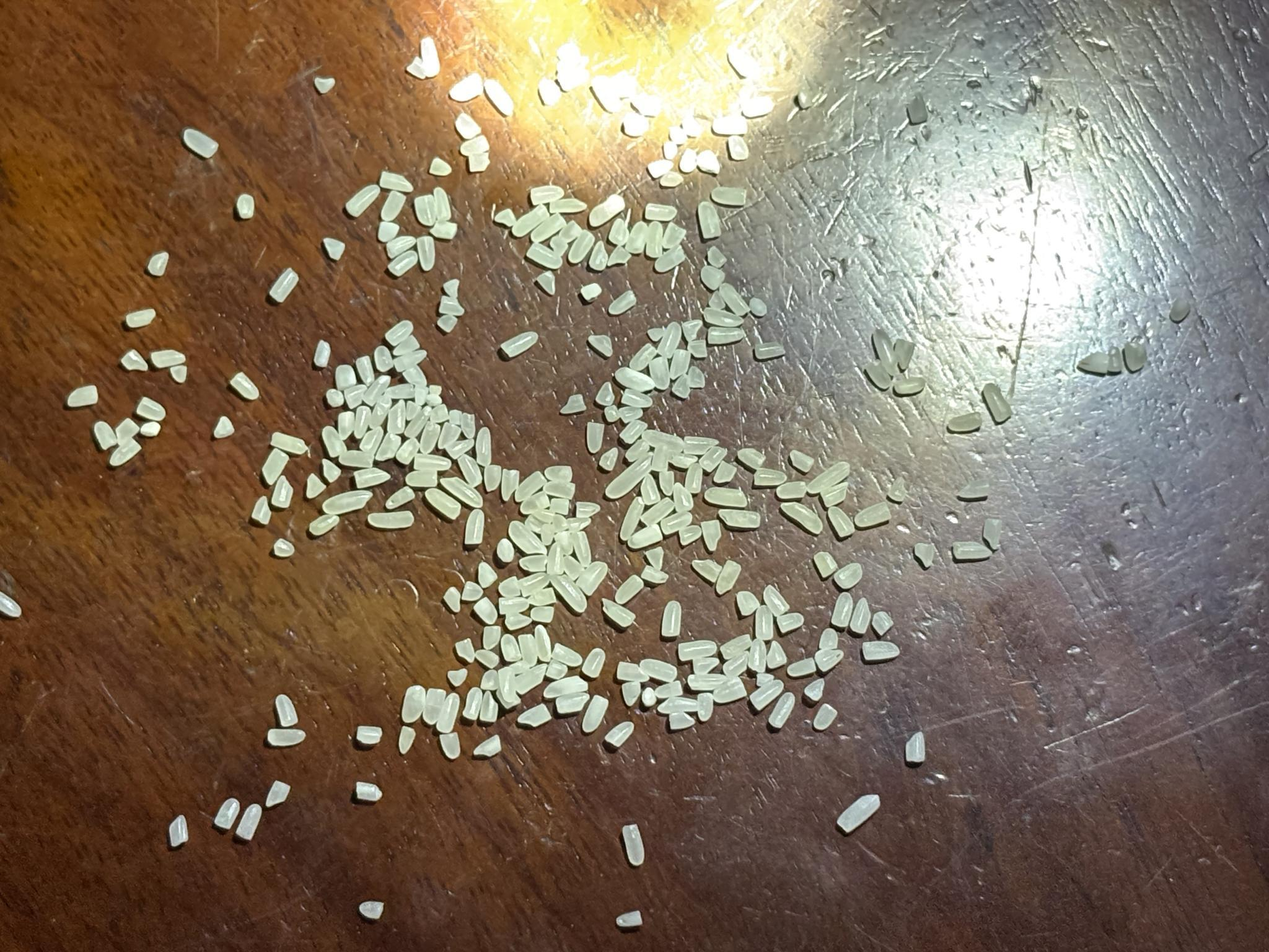Rice-th-y-nh: (605, 457, 653, 501), (553, 40, 588, 94), (837, 794, 881, 833), (867, 328, 901, 377), (587, 190, 626, 232), (549, 573, 588, 614), (589, 72, 626, 115), (506, 519, 548, 556), (510, 202, 551, 239), (980, 382, 1016, 424), (780, 501, 824, 535), (440, 475, 484, 509), (806, 461, 850, 495), (726, 44, 762, 81), (483, 77, 515, 117), (694, 200, 726, 240), (322, 489, 371, 515), (345, 183, 381, 218), (424, 487, 462, 520), (530, 212, 567, 245), (618, 496, 645, 541), (704, 484, 748, 511), (416, 36, 444, 78), (655, 320, 685, 359), (705, 322, 745, 351), (718, 282, 750, 318), (614, 366, 655, 394), (640, 219, 668, 260), (182, 128, 219, 159), (657, 600, 687, 638), (470, 426, 497, 468), (513, 470, 547, 503), (640, 496, 675, 528), (712, 110, 748, 141), (261, 448, 290, 486), (542, 675, 586, 700), (548, 192, 587, 220), (496, 668, 522, 710), (449, 72, 484, 103), (711, 181, 747, 211), (718, 506, 761, 531), (623, 219, 652, 256), (525, 243, 563, 271), (514, 663, 548, 694), (601, 597, 635, 628), (567, 229, 596, 265), (582, 695, 609, 733), (501, 332, 539, 359), (436, 693, 461, 734), (749, 680, 784, 709), (639, 657, 678, 683), (714, 559, 742, 595), (646, 355, 674, 391), (855, 500, 891, 528), (641, 427, 683, 451), (412, 235, 439, 272), (654, 244, 686, 275), (570, 530, 596, 568), (411, 193, 440, 227), (644, 198, 678, 227), (702, 306, 743, 330), (268, 267, 296, 302), (677, 638, 716, 663), (622, 824, 645, 866), (613, 574, 644, 605), (367, 510, 415, 530), (768, 693, 795, 728), (628, 523, 663, 550), (667, 346, 694, 381), (582, 562, 609, 597), (237, 804, 263, 840), (531, 624, 555, 663), (362, 374, 391, 406), (270, 431, 307, 456), (421, 688, 446, 725), (320, 425, 348, 458), (456, 453, 483, 487), (740, 93, 775, 119), (378, 170, 414, 195), (515, 632, 540, 668), (621, 109, 651, 139), (628, 342, 657, 373), (828, 505, 856, 537), (380, 190, 407, 223), (698, 518, 724, 552), (582, 420, 608, 454), (392, 348, 427, 373), (230, 372, 260, 401), (698, 445, 728, 474), (698, 262, 727, 292), (404, 408, 432, 439), (109, 439, 141, 466), (497, 469, 523, 502), (337, 447, 374, 470), (543, 478, 577, 503), (744, 639, 769, 673), (864, 360, 893, 389), (368, 395, 392, 430), (374, 432, 402, 462), (430, 186, 454, 221), (387, 399, 411, 434), (687, 672, 727, 693), (661, 220, 688, 251), (637, 474, 663, 506), (519, 490, 551, 516), (387, 251, 419, 277), (980, 517, 1006, 549), (849, 598, 872, 634), (947, 411, 983, 434), (763, 584, 788, 617), (542, 542, 566, 576), (608, 289, 637, 317), (454, 112, 482, 141), (213, 798, 239, 829), (350, 405, 373, 440), (586, 240, 611, 272), (551, 643, 583, 668), (660, 695, 700, 715), (353, 469, 391, 490), (660, 512, 693, 536), (615, 661, 649, 684), (418, 421, 441, 455), (395, 436, 421, 466), (537, 77, 563, 107), (834, 563, 864, 589), (682, 432, 719, 453), (691, 558, 722, 583), (555, 693, 590, 715), (831, 592, 853, 627), (720, 634, 752, 658), (385, 234, 417, 258), (334, 409, 357, 442), (723, 651, 750, 679), (619, 419, 648, 445), (725, 133, 751, 162), (604, 721, 634, 746), (606, 217, 631, 247), (384, 319, 414, 344), (517, 703, 551, 725), (384, 485, 415, 509), (581, 647, 605, 678), (480, 462, 504, 493), (459, 133, 490, 157), (754, 339, 785, 363), (953, 542, 992, 561), (275, 695, 298, 727), (332, 363, 358, 391), (620, 389, 653, 411), (736, 447, 766, 471), (753, 468, 787, 489), (713, 682, 747, 703), (892, 376, 926, 397), (354, 355, 377, 386), (518, 552, 549, 575), (520, 575, 551, 598), (862, 640, 899, 659), (265, 780, 291, 807), (606, 243, 633, 269), (696, 148, 723, 174), (473, 597, 498, 625), (437, 422, 462, 450), (586, 333, 614, 358), (813, 551, 838, 579), (429, 218, 458, 242), (499, 633, 522, 663), (648, 443, 671, 473), (67, 385, 98, 407), (402, 365, 429, 390), (813, 703, 838, 730), (359, 426, 384, 453), (822, 484, 849, 509), (647, 155, 674, 180), (308, 514, 340, 535), (405, 469, 437, 490), (445, 437, 474, 460), (137, 397, 166, 420), (268, 728, 305, 746), (686, 464, 707, 495), (384, 381, 415, 402), (561, 555, 586, 581), (735, 590, 760, 616), (466, 150, 492, 175), (115, 418, 140, 444), (680, 316, 704, 343), (680, 112, 704, 139), (670, 373, 693, 401), (498, 595, 530, 615), (775, 480, 807, 500), (473, 734, 502, 756), (150, 350, 185, 368), (544, 463, 574, 484), (695, 692, 716, 722), (789, 449, 815, 473), (559, 219, 583, 245), (914, 542, 938, 568), (393, 334, 420, 357), (476, 561, 499, 588), (372, 345, 395, 372), (817, 650, 844, 673), (529, 603, 556, 626), (560, 393, 587, 416), (594, 381, 617, 408), (168, 816, 188, 847), (672, 482, 694, 510), (0, 590, 22, 618), (94, 421, 116, 449), (439, 732, 461, 760), (529, 586, 558, 607), (554, 528, 575, 557), (463, 687, 482, 719), (625, 438, 650, 462), (713, 461, 738, 485), (376, 220, 401, 244), (643, 546, 667, 571), (597, 446, 620, 472), (678, 147, 700, 174), (766, 641, 788, 668), (536, 270, 558, 297), (776, 612, 804, 633), (787, 657, 816, 677), (1105, 346, 1125, 375), (323, 236, 346, 261), (871, 611, 894, 636), (548, 233, 571, 258), (305, 473, 327, 499), (657, 469, 678, 496), (442, 586, 463, 613), (574, 499, 601, 520), (655, 680, 683, 700), (355, 782, 383, 802), (641, 565, 669, 585), (125, 309, 156, 327), (705, 246, 729, 269), (685, 365, 707, 390), (454, 638, 476, 663), (495, 538, 517, 563), (621, 680, 642, 706), (481, 624, 502, 650), (617, 405, 643, 426), (121, 351, 148, 371), (478, 692, 496, 722), (276, 479, 294, 509), (504, 612, 532, 631), (692, 656, 720, 675), (313, 340, 332, 368), (686, 337, 709, 360), (429, 402, 451, 426), (345, 386, 367, 410), (270, 476, 287, 507), (475, 648, 500, 669), (321, 458, 342, 483), (439, 297, 465, 317), (458, 412, 478, 438), (213, 416, 235, 439), (461, 580, 484, 602), (545, 659, 568, 681), (580, 280, 603, 302), (398, 726, 416, 754), (494, 207, 518, 228), (567, 515, 592, 535), (669, 711, 695, 730), (659, 170, 685, 189), (517, 571, 546, 588), (761, 605, 775, 640), (670, 452, 697, 470), (406, 58, 428, 80), (148, 253, 169, 276), (548, 496, 572, 516), (679, 527, 703, 547), (668, 124, 689, 146), (436, 313, 459, 333), (480, 669, 500, 692), (805, 678, 825, 701), (429, 157, 452, 177), (616, 910, 643, 927), (251, 496, 268, 523), (359, 901, 384, 919), (529, 241, 555, 258), (325, 387, 346, 408), (818, 628, 838, 650), (708, 289, 727, 312), (498, 581, 522, 599), (748, 296, 768, 317), (447, 668, 469, 687), (602, 403, 621, 425), (539, 523, 557, 546), (661, 140, 680, 161), (442, 278, 461, 299), (314, 76, 336, 94), (647, 325, 668, 342), (274, 539, 295, 556), (169, 364, 187, 383), (356, 725, 382, 738), (140, 421, 161, 437), (357, 731, 382, 744), (405, 401, 421, 421), (412, 386, 427, 407), (642, 687, 657, 707), (755, 672, 774, 687), (425, 393, 442, 408)
